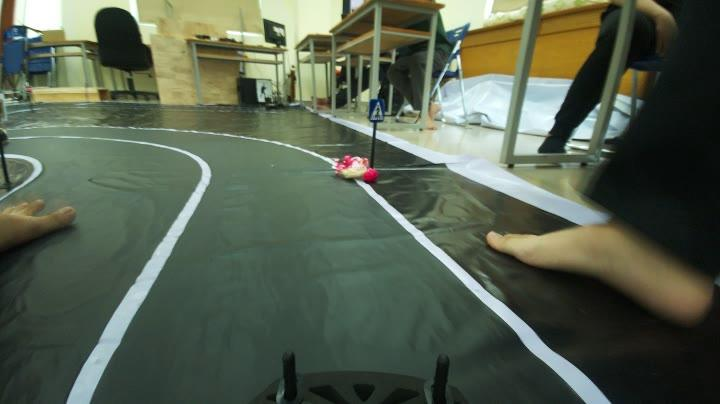crosswalk: (364, 95, 393, 125)
